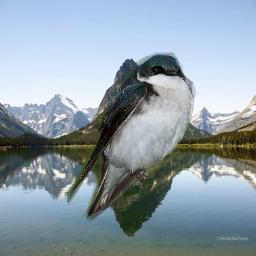Swallow: (67, 48, 198, 221)
